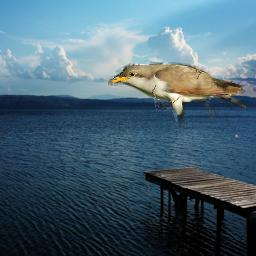Cuckoo: (108, 62, 246, 128)
